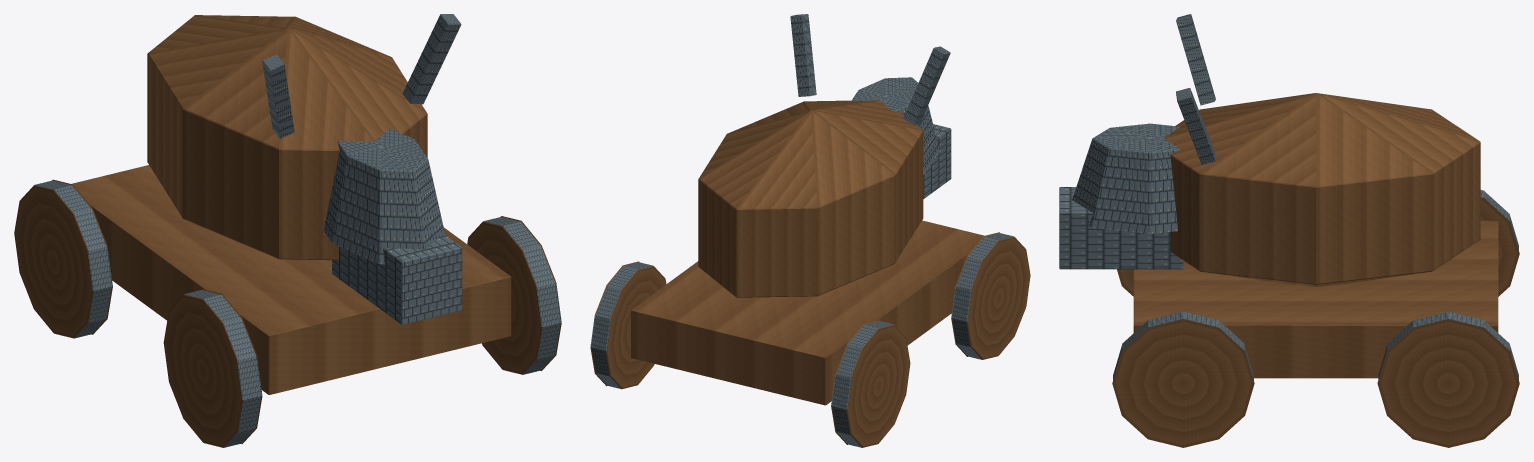
File: unit-WOODEN_BEAST-lod0.glb
3 views of the same model, side by side, from view 1: azimuth 30°, elevation 25°; view 2: azimuth 150°, elevation 25°; view 3: azimuth 270°, elevation 25° (orthographic). The views are drawn at different scales.
Size of the model in its own units: 0.394 by 0.4354 by 0.5559.
Materials: 1 (1 with a texture image).
